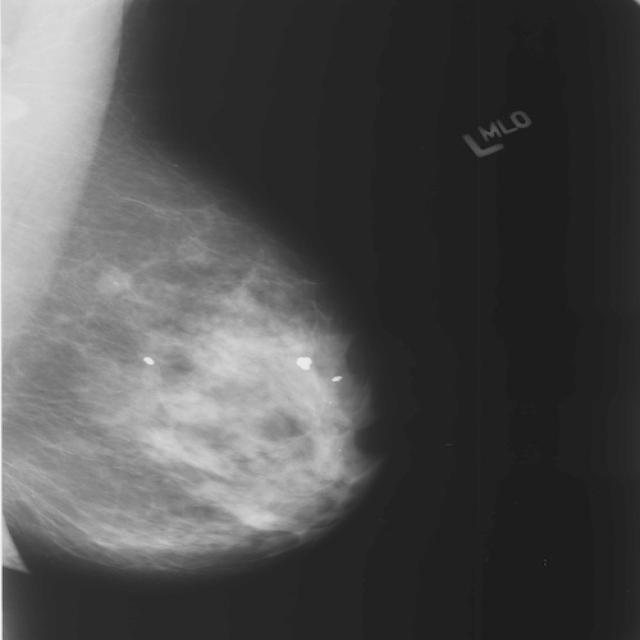tumour: (92, 266, 131, 294)
